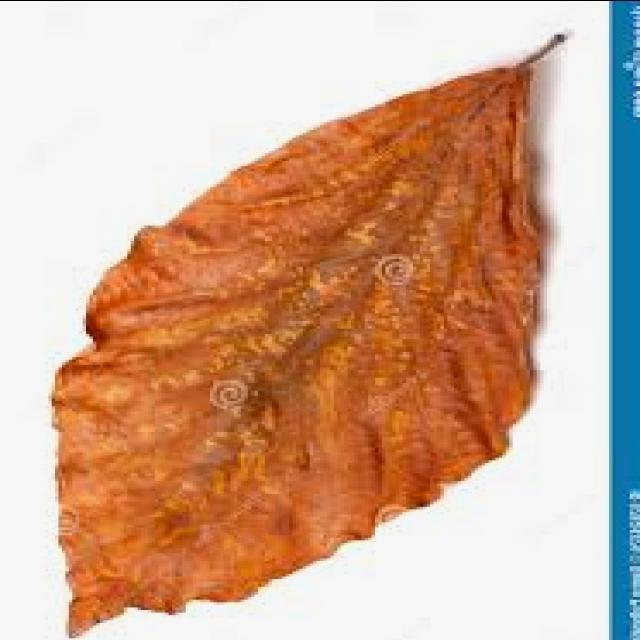leaf: (49, 31, 567, 636)
